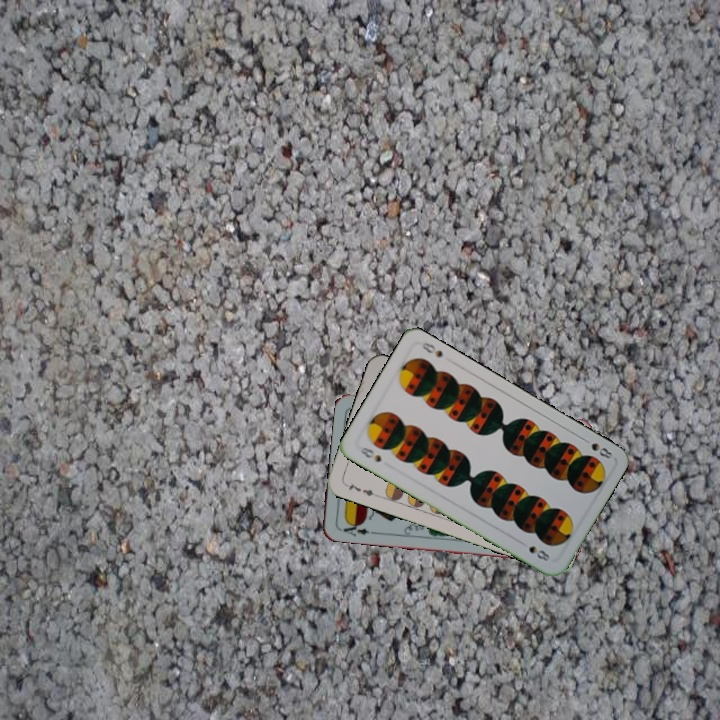E7: (341, 479, 380, 499)
EA: (336, 518, 377, 539)
S8: (578, 434, 615, 461), (354, 443, 384, 465)
